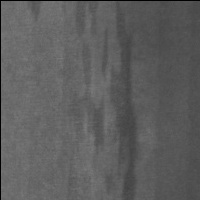inclusion: (74, 3, 137, 200)
